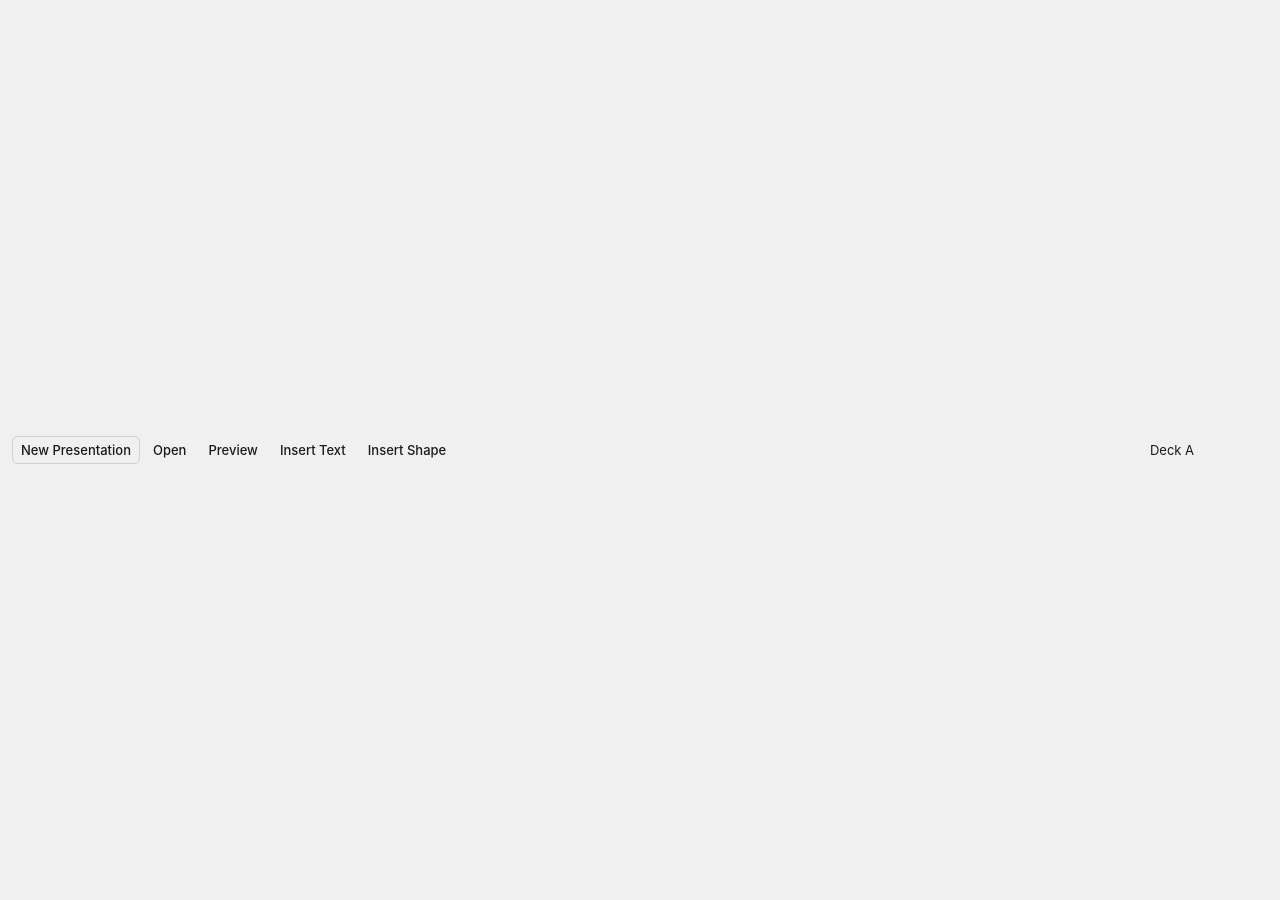
Test: Toolbar › opens shape picker popup when Insert Shape is clicked
Click the button "Insert Shape". click: (407, 450)
box: [359,436,455,464]
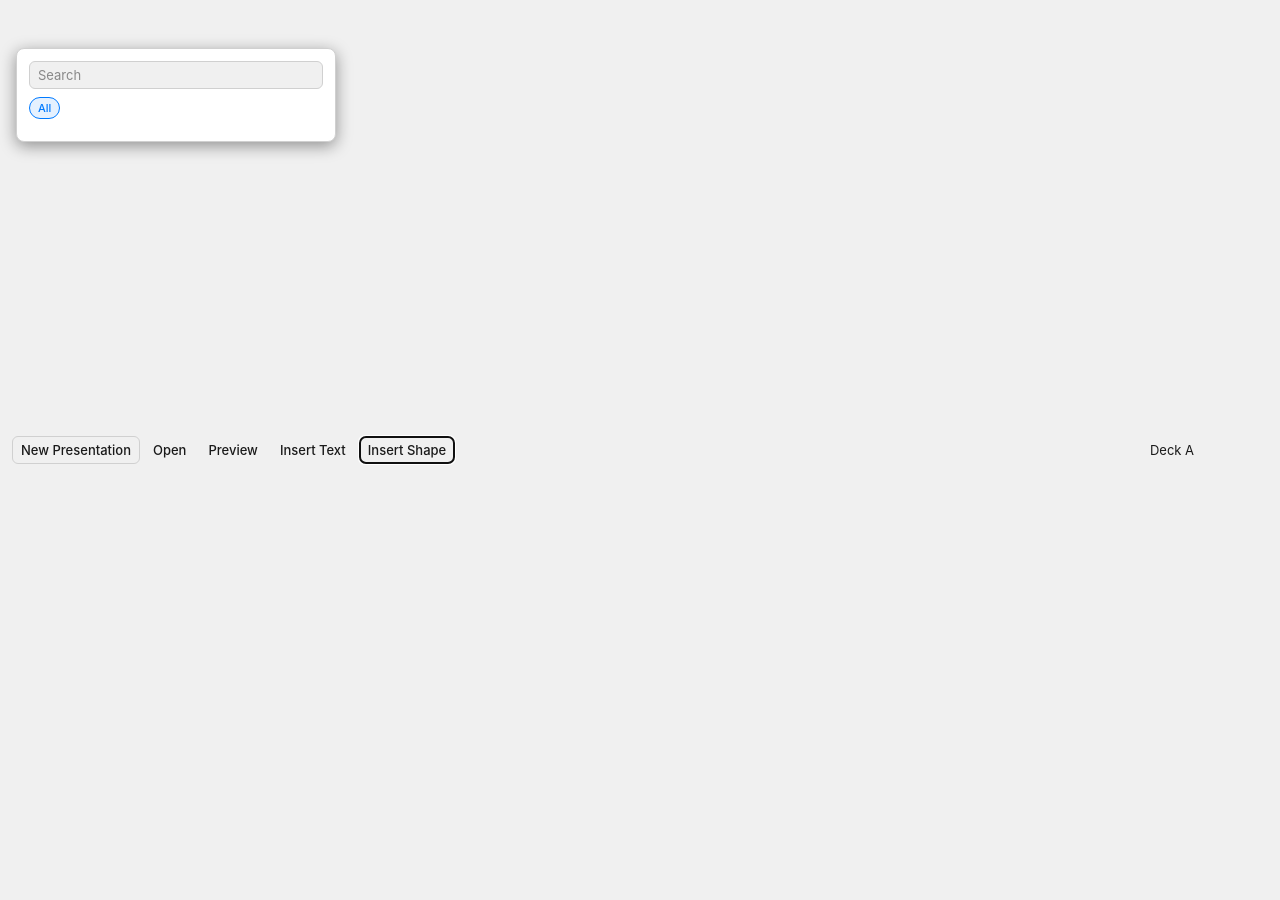
Now the dialog named "Insert shape" is shown, box [16,48,336,142]
